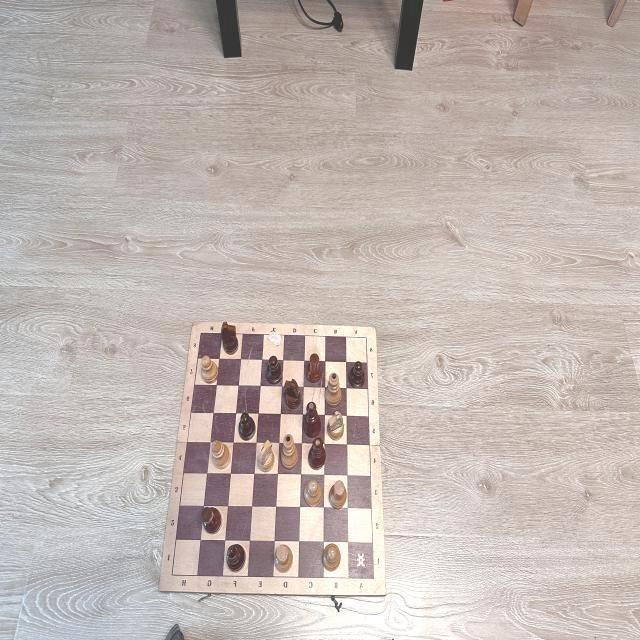chess-table-corners: (371, 575, 377, 582), (364, 334, 369, 340), (198, 330, 203, 336), (170, 572, 174, 577)
